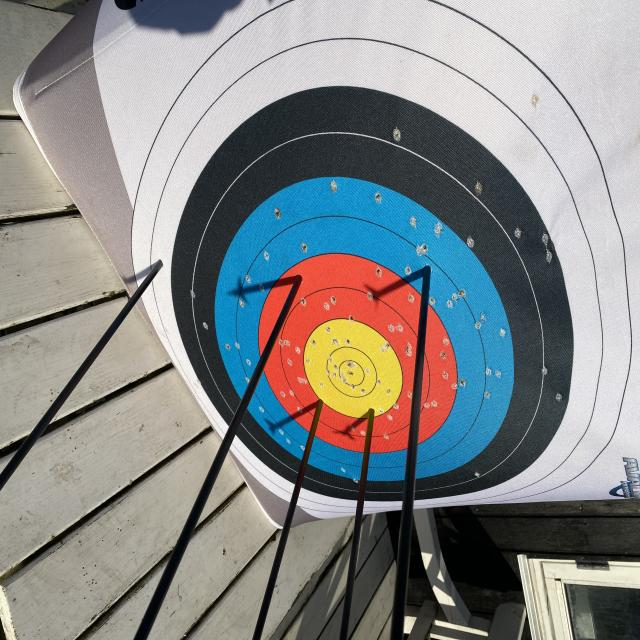Arrow_Blue: (405, 255, 439, 287)
Arrow_Red: (282, 260, 316, 305), (313, 384, 334, 424)
Arrow_White: (150, 248, 171, 286)
Arrow_Yellow: (356, 400, 382, 438)
